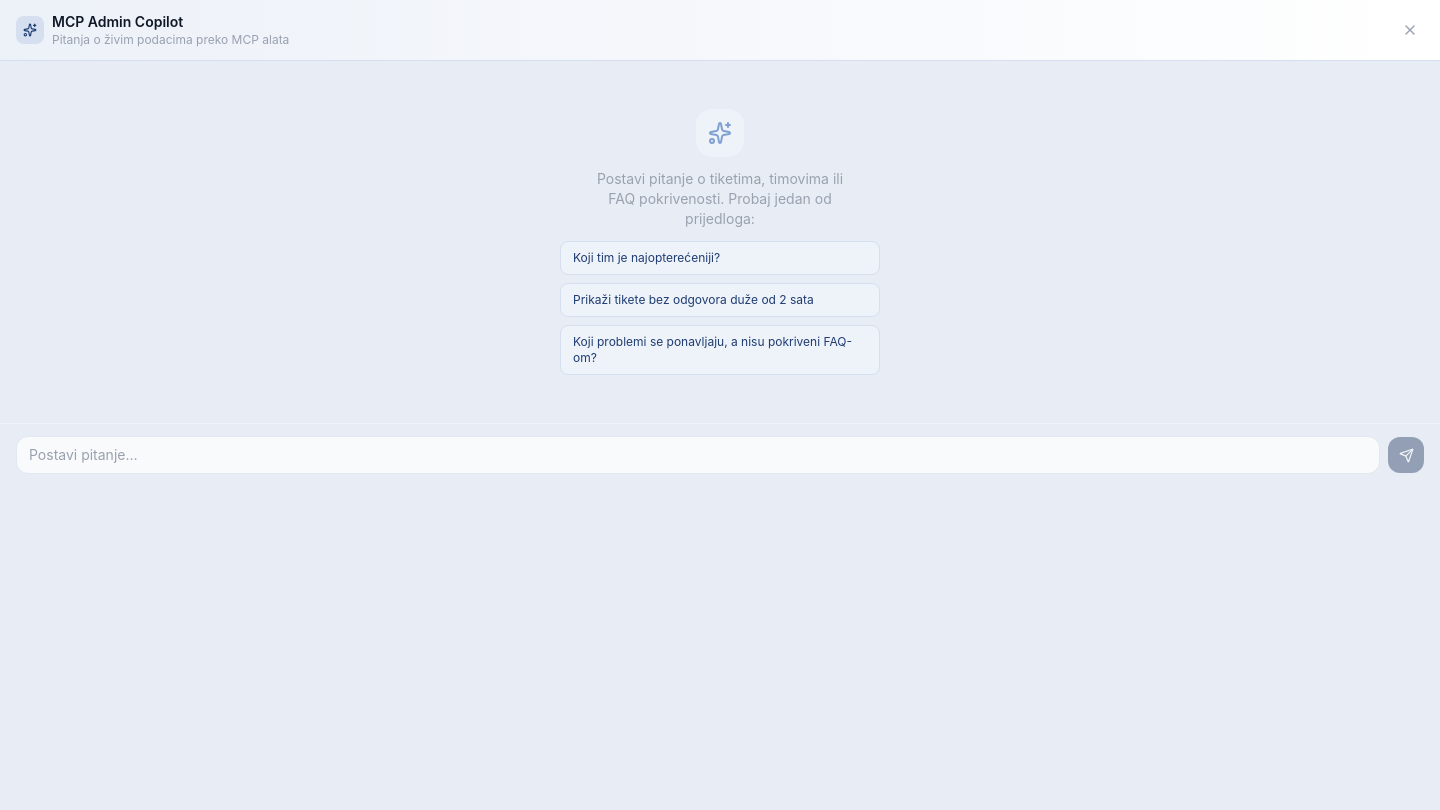
Test: AdminCopilotPanel (PB-70 / US-108) › US-111: prikazuje listu ponavljanih problema i FAQ status
The width and height of the screenshot is (1440, 810).
Click the button "Koji problemi se ponavljaju, a nisu pokriveni FAQ-om?". click: (720,350)
box: [560, 325, 880, 375]
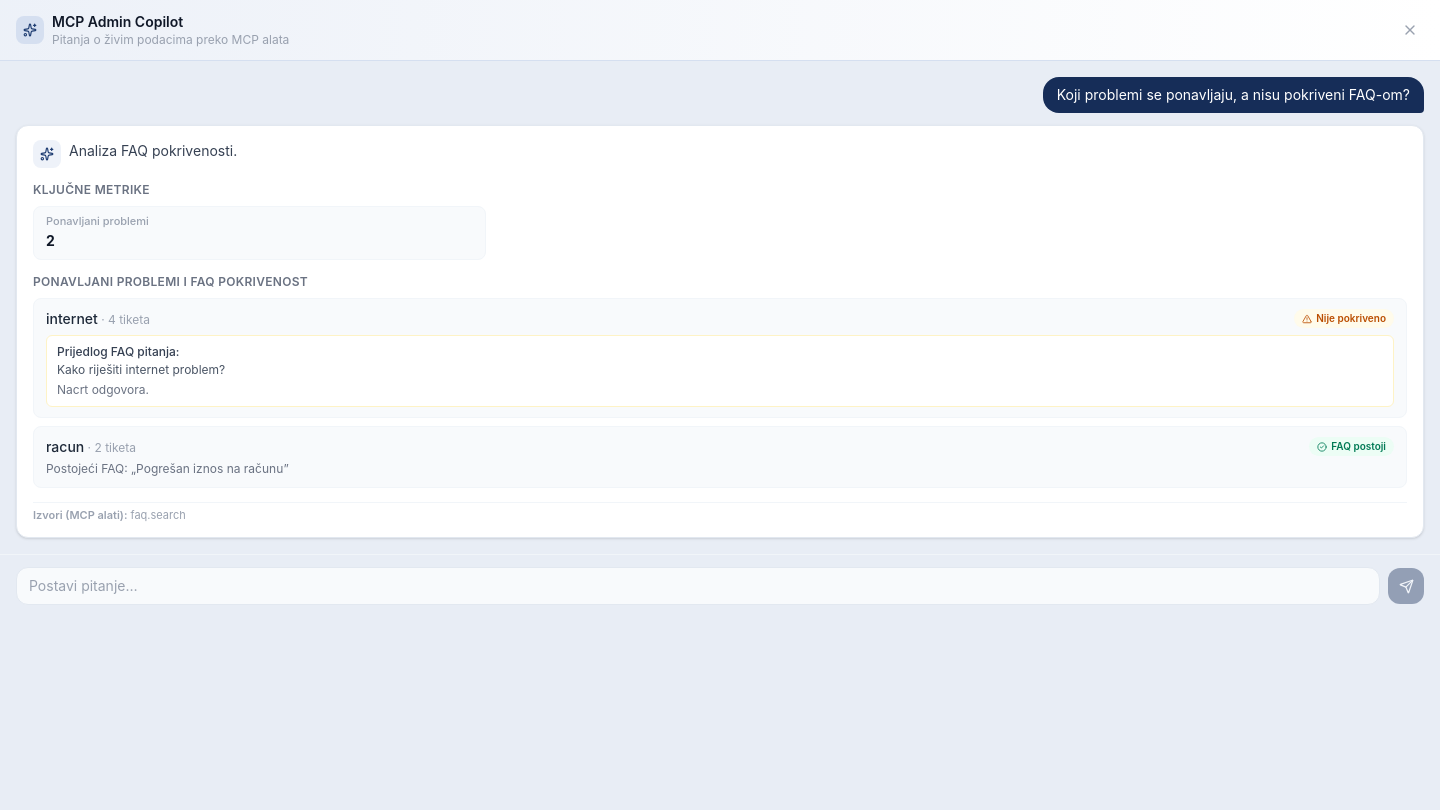
Expected: the text "Nije pokriveno" is shown, [1294, 309, 1394, 328]
Expected: the text "FAQ postoji" is shown, [1309, 437, 1394, 456]
Expected: the text "Kako riješiti internet problem?" is shown, [57, 362, 225, 377]
